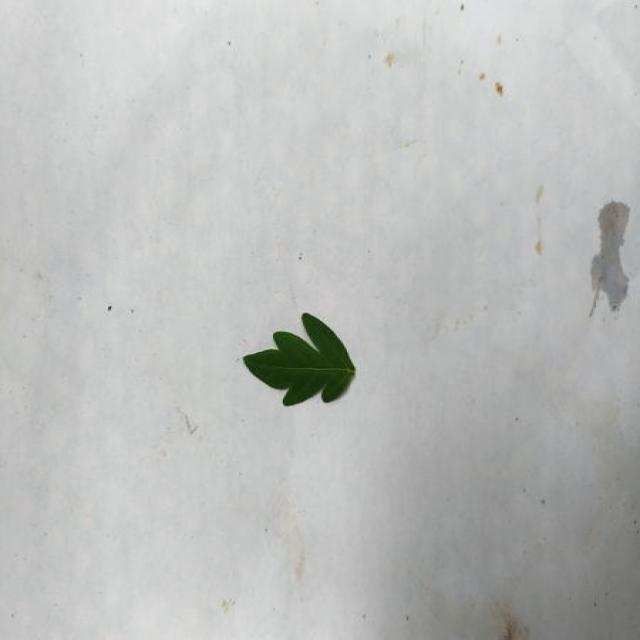balloon_Vine: (243, 314, 355, 406)
